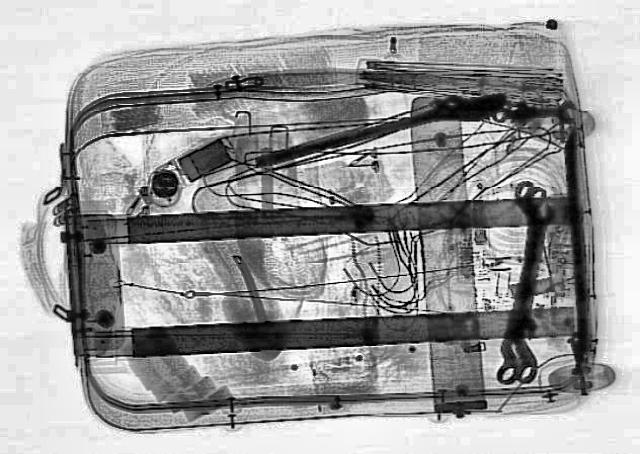Wrench: (246, 78, 516, 180), (490, 186, 550, 384), (513, 179, 539, 383)
